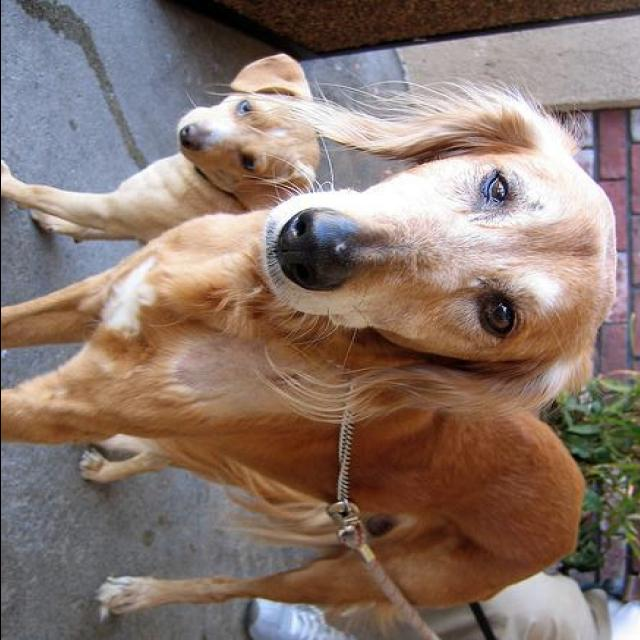saluki: (3, 65, 625, 638), (4, 51, 320, 257)
